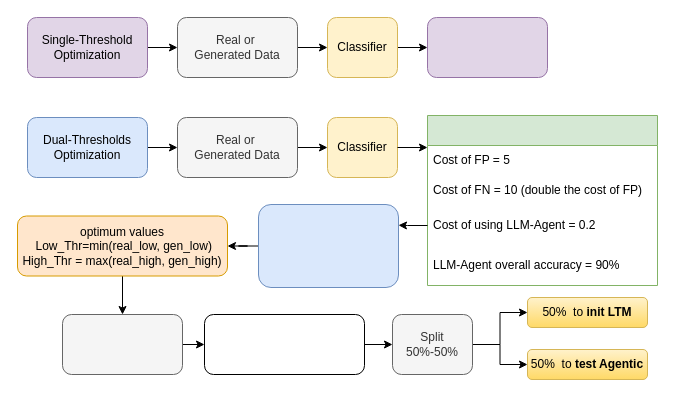
This 675x397 diagram has some shape labels left out. Here are the shapes that lost their labels. From the top down, the box of each, then its label:
(426, 16, 548, 78): Thresolds in [0,1] Maximize F2-Score
(426, 114, 658, 286): Sample Cost definition
(258, 204, 398, 288): Low_Thr in [0,1] High_Thr in [0,1] Low_Thr < High_Thr Minimize the total cost
(62, 314, 182, 374): Apply to real/gen dataset
(204, 314, 364, 374): label them by node (Detector, LLM-Agent)/ and TP/TN/FP/FN
